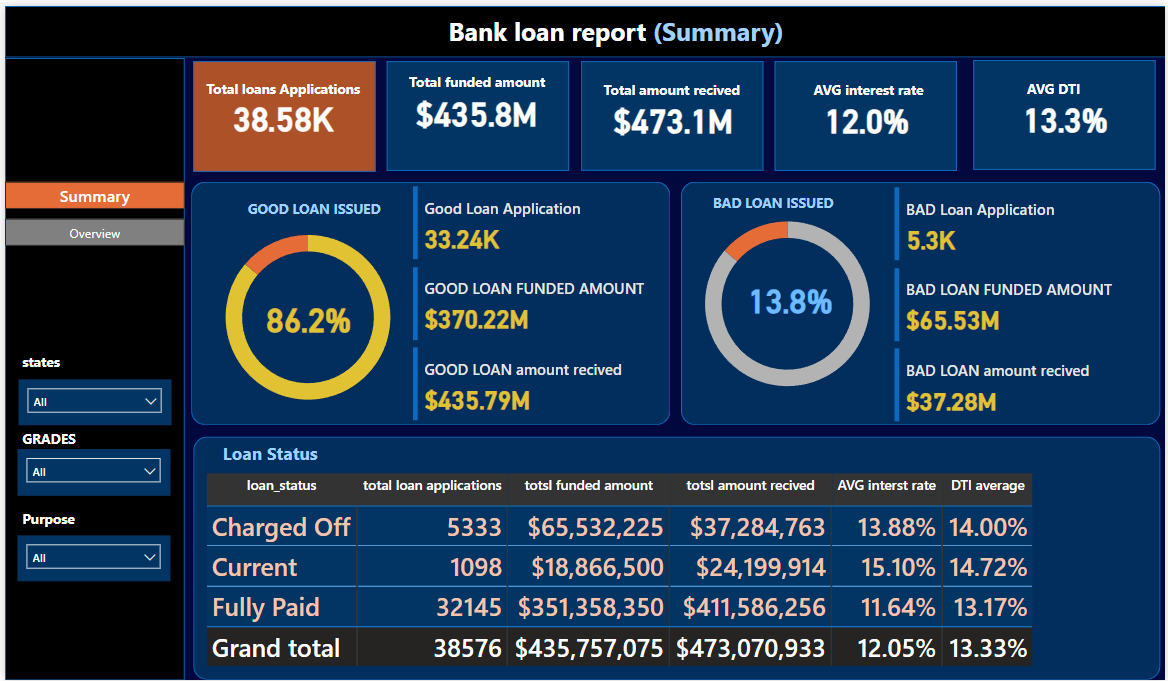

The page's visual inventory and layout, read from the dashboard file:
{"tool":"powerbi","page":{"name":"Summary","canvas":[1240,720],"ordinal":0},"visuals":[{"type":"shape","box":[0,55,192,665],"z":0},{"type":"shape","box":[408.1,59.1,194.9,117.3],"z":1000},{"type":"shape","box":[0,0,1280,55],"z":2000},{"type":"textbox","box":[468.6,2.9,395.7,48.6],"z":3000},{"type":"shape","box":[200.7,59.1,194.9,118.3],"z":4000},{"type":"card","fields":{"Values":["financial_loan.total loan applications"]},"box":[210,72.5,175,92.5],"z":5000},{"type":"textbox","box":[210,72.9,195.7,45.7],"z":6000},{"type":"card","fields":{"Values":["financial_loan.totsl funded amount"]},"box":[412.5,66.2,183.3,92.9],"z":7000},{"type":"textbox","box":[426.5,66.2,194.8,45.8],"z":8000},{"type":"shape","box":[1034.4,58.2,194.9,117.3],"z":9000,"group":"g3"},{"type":"group","id":"g1","title":"Group 1","box":[615.6,59.1,213.3,117.3],"z":9000},{"type":"shape","box":[615.6,59.1,194.8,117.1],"z":9000,"group":"g1"},{"type":"shape","box":[822.1,59.1,194.9,117.3],"z":9000,"group":"g2"},{"type":"group","id":"g2","title":"Group 1","box":[822.1,59.1,230.7,117.3],"z":10000},{"type":"textbox","box":[1086.1,73.7,193.9,45.6],"z":10000,"group":"g3"},{"type":"textbox","box":[858.9,74.6,193.9,45.6],"z":10000,"group":"g2"},{"type":"textbox","box":[634.2,74.9,194.6,45.6],"z":10000,"group":"g1"},{"type":"group","id":"g3","title":"Group 1","box":[1034.4,58.2,245.6,117.3],"z":11000},{"type":"card","fields":{"Values":["financial_loan.DTI average"]},"box":[1041.2,87.2,183.4,65.2],"z":11000,"group":"g3"},{"type":"card","fields":{"Values":["financial_loan.totsl amount recived"]},"box":[622.1,88,183.4,65.2],"z":11000,"group":"g1"},{"type":"card","fields":{"Values":["financial_loan.AVG interst rate"]},"box":[828.9,88.1,183.4,65.2],"z":11000,"group":"g2"},{"type":"shape","box":[198.7,188.1,512,260],"z":12000},{"type":"shape","box":[722.2,187.8,512.2,260],"z":13000},{"type":"donutChart","fields":{"Category":["financial_loan.loan_status (groups)"],"Y":["financial_loan.total loan applications"]},"box":[198.9,217.8,250,230],"z":14000},{"type":"card","fields":{"Values":["financial_loan.goodloan 5"]},"box":[236.7,286.7,175.6,93.3],"z":15000},{"type":"cardVisual","fields":{"Data":["financial_loan.goodloan APPLOICTAIon","financial_loan.GOOD LOAN FUNDED AMOUNT","financial_loan.GOOD LOAN amount recived"]},"box":[431.1,187.8,282.2,260],"z":16000},{"type":"textbox","box":[254.4,202.2,194.4,45.6],"z":17000},{"type":"textbox","box":[751.1,195.6,194.4,45.6],"z":18000},{"type":"donutChart","fields":{"Category":["financial_loan.loan_status (groups)"],"Y":["financial_loan.total loan applications"]},"box":[711.1,203.3,250,230],"z":19000},{"type":"card","fields":{"Values":["financial_loan.BAD loan %"]},"box":[751.1,266.7,175.6,93.3],"z":20000},{"type":"cardVisual","fields":{"Data":["financial_loan.BAD  Loan Application","financial_loan.baD LOAN FUNDED AMOUNT","financial_loan.bad LOAN amount recived"]},"box":[945.6,188.9,282.2,260],"z":21000},{"type":"shape","box":[201.1,460,1033.3,260],"z":22000},{"type":"tableEx","fields":{"Values":["financial_loan.loan_status","financial_loan.total loan applications","financial_loan.totsl funded amount","financial_loan.totsl amount recived","financial_loan.AVG interst rate","financial_loan.DTI average"]},"box":[210,494.4,1014.4,217.8],"z":23000},{"type":"textbox","box":[227.8,460,194.4,45.6],"z":24000},{"type":"slicer","fields":{"Values":["financial_loan.address_state"]},"box":[14.4,398.9,163.3,48.9],"z":25000},{"type":"slicer","fields":{"Values":["financial_loan.grade"]},"box":[13.3,473.3,163.3,50],"z":26000},{"type":"slicer","fields":{"Values":["financial_loan.purpose"]},"box":[13.3,565.6,163.3,48.9],"z":27000},{"type":"textbox","box":[13.3,365.6,195.6,45.6],"z":28000},{"type":"textbox","box":[13.3,533.3,195.6,45.6],"z":29000},{"type":"textbox","box":[13.3,447.8,195.6,45.6],"z":30000},{"type":"pageNavigator","box":[0,187.8,192.2,68.9],"z":30001}]}

Visuals, with their boxes in screenshot pixels (x1, y1, x2, y2), scaled from the page's 1240x720 canvas onto the 1168x681 screenshot:
shape: <bbox>0, 52, 181, 680</bbox>
shape: <bbox>384, 56, 568, 167</bbox>
shape: <bbox>0, 0, 1167, 52</bbox>
textbox: <bbox>441, 3, 814, 49</bbox>
shape: <bbox>189, 56, 373, 168</bbox>
card - financial_loan.total loan applications: <bbox>198, 69, 363, 156</bbox>
textbox: <bbox>198, 69, 382, 112</bbox>
card - financial_loan.totsl funded amount: <bbox>389, 63, 561, 150</bbox>
textbox: <bbox>402, 63, 585, 106</bbox>
shape: <bbox>974, 55, 1158, 166</bbox>
"Group 1" group: <bbox>580, 56, 781, 167</bbox>
shape: <bbox>580, 56, 763, 167</bbox>
shape: <bbox>774, 56, 958, 167</bbox>
"Group 1" group: <bbox>774, 56, 992, 167</bbox>
textbox: <bbox>1023, 70, 1167, 113</bbox>
textbox: <bbox>809, 71, 992, 114</bbox>
textbox: <bbox>597, 71, 781, 114</bbox>
"Group 1" group: <bbox>974, 55, 1167, 166</bbox>
card - financial_loan.DTI average: <bbox>981, 82, 1153, 144</bbox>
card - financial_loan.totsl amount recived: <bbox>586, 83, 759, 145</bbox>
card - financial_loan.AVG interst rate: <bbox>781, 83, 954, 145</bbox>
shape: <bbox>187, 178, 669, 424</bbox>
shape: <bbox>680, 178, 1163, 424</bbox>
donutChart - financial_loan.loan_status (groups) x financial_loan.total loan applications: <bbox>187, 206, 423, 424</bbox>
card - financial_loan.goodloan 5: <bbox>223, 271, 388, 359</bbox>
cardVisual - financial_loan.goodloan APPLOICTAIon x financial_loan.GOOD LOAN FUNDED AMOUNT: <bbox>406, 178, 672, 424</bbox>
textbox: <bbox>240, 191, 423, 234</bbox>
textbox: <bbox>707, 185, 891, 228</bbox>
donutChart - financial_loan.loan_status (groups) x financial_loan.total loan applications: <bbox>670, 192, 905, 410</bbox>
card - financial_loan.BAD loan %: <bbox>707, 252, 873, 340</bbox>
cardVisual - financial_loan.BAD  Loan Application x financial_loan.baD LOAN FUNDED AMOUNT: <bbox>891, 179, 1157, 425</bbox>
shape: <bbox>189, 435, 1163, 680</bbox>
tableEx - financial_loan.loan_status x financial_loan.total loan applications: <bbox>198, 468, 1153, 674</bbox>
textbox: <bbox>215, 435, 398, 478</bbox>
slicer - financial_loan.address_state: <bbox>14, 377, 167, 424</bbox>
slicer - financial_loan.grade: <bbox>13, 448, 166, 495</bbox>
slicer - financial_loan.purpose: <bbox>13, 535, 166, 581</bbox>
textbox: <bbox>13, 346, 197, 389</bbox>
textbox: <bbox>13, 504, 197, 548</bbox>
textbox: <bbox>13, 424, 197, 467</bbox>
pageNavigator: <bbox>0, 178, 181, 243</bbox>
